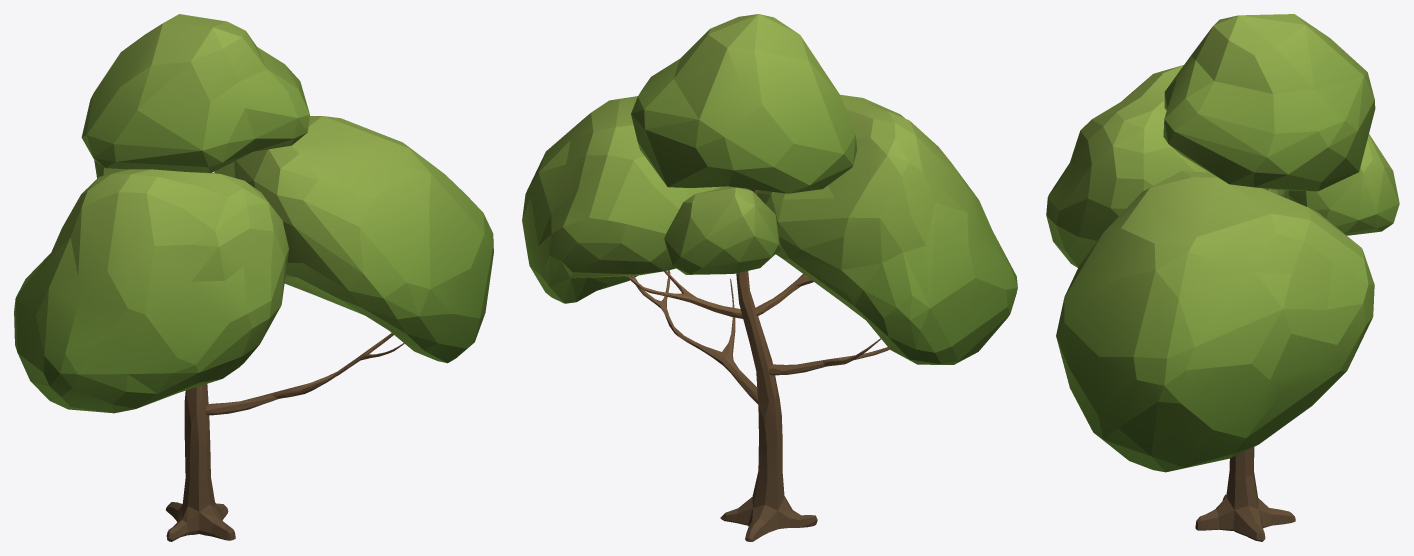
The model's file is Spring_Tree_10.glb.
3 renders of one model, left to right at view 1: azimuth 30°, elevation 25°; view 2: azimuth 150°, elevation 25°; view 3: azimuth 270°, elevation 25°, orthographic. The views are drawn at different scales.
Parts seen in each view (by area): view 1: Spring_Tree_10_LOD0; view 2: Spring_Tree_10_LOD0; view 3: Spring_Tree_10_LOD0.
Part boxes in pixels (x1,y1,x2,y2): Spring_Tree_10_LOD0: (14,14,493,541); Spring_Tree_10_LOD0: (522,14,1017,541); Spring_Tree_10_LOD0: (1046,14,1399,541).
Size of what is drawn, in the model's own units: 12.47 by 13.05 by 8.14.
Materials: 1 (1 with a texture image).
